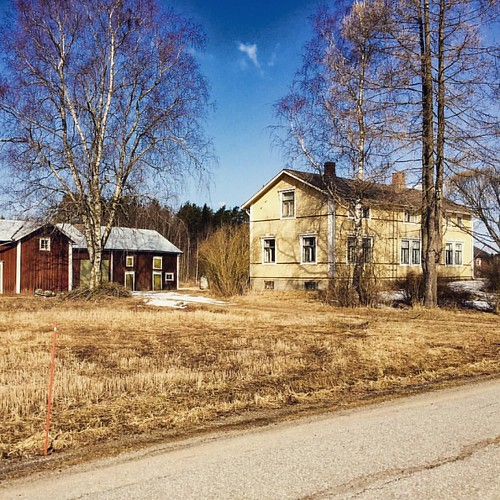building: (244, 183, 484, 295), (1, 221, 186, 290)
grass: (1, 307, 466, 483)
tree: (286, 1, 500, 303), (1, 1, 213, 303)
